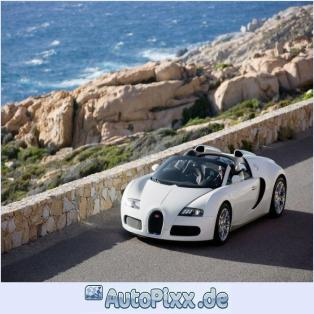Auto: (120, 144, 287, 244)
